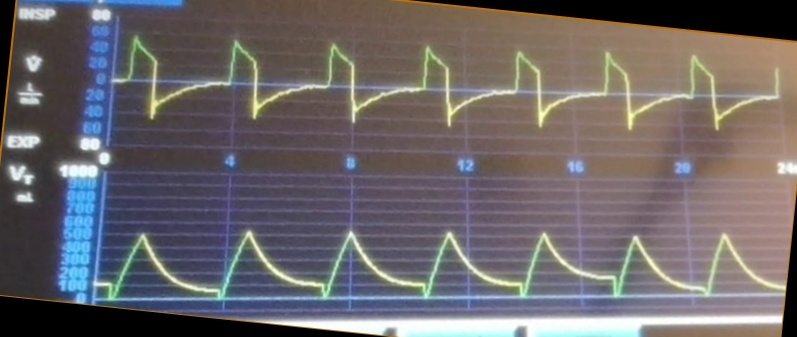Flow: (120, 35, 754, 150)
Leakage Volume: (98, 224, 781, 306)
